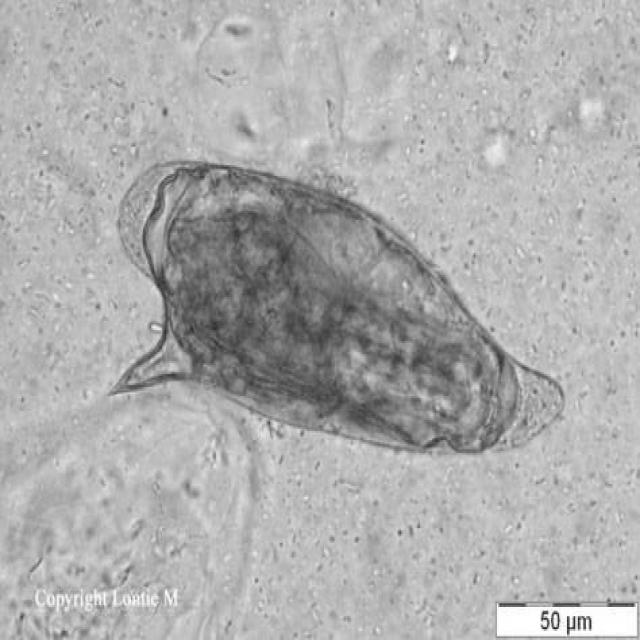Schistosoma: (102, 155, 568, 467)
